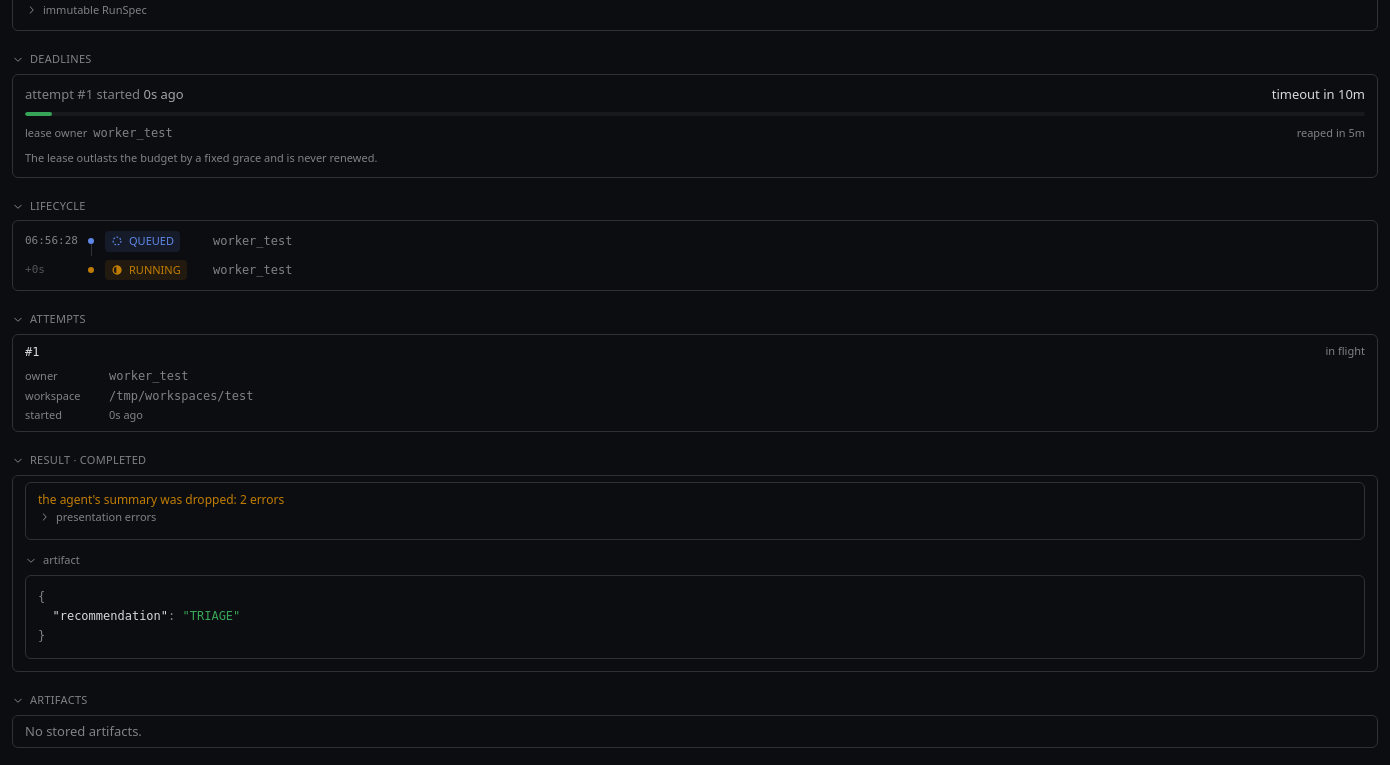
Scenario: presentation result rendering › shows dropped presentation errors while keeping Layer A
(page scrolled)
Expected: the text "the agent's summary was dropped: 2 errors" is shown, [38,490,284,508]
Expected: the text "artifact" is shown, [43,552,80,568]
Click the heading "presentation errors": click(97, 516) [38,508,156,524]
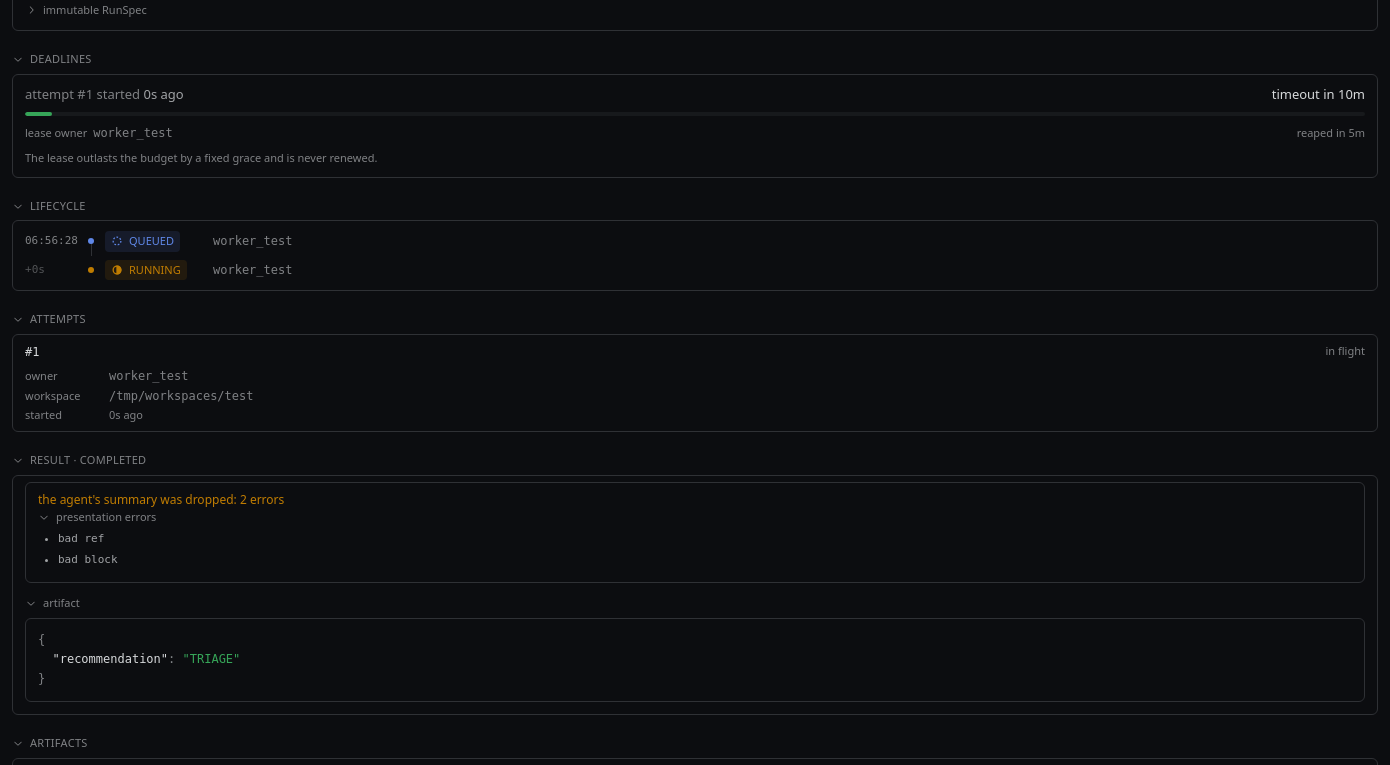
Now the list item "bad ref" is shown, box [58,532,104,545]
